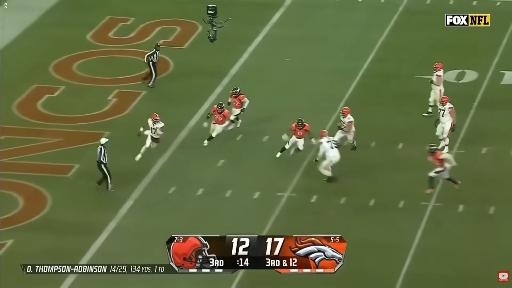Helmet: (439, 95, 449, 106), (231, 87, 241, 97), (428, 144, 439, 153), (296, 118, 305, 129), (216, 102, 225, 113), (341, 107, 350, 117), (434, 63, 442, 71), (152, 114, 159, 123), (320, 130, 327, 137)
Jersey: (318, 137, 339, 158), (429, 152, 456, 167), (211, 106, 230, 124), (148, 118, 164, 138), (439, 103, 454, 122), (291, 123, 309, 138), (229, 94, 246, 109), (339, 115, 354, 132), (430, 152, 445, 167), (432, 70, 443, 89)
Player: (427, 144, 460, 193), (314, 130, 340, 182), (136, 114, 164, 161), (276, 118, 309, 157), (204, 102, 230, 146), (423, 63, 444, 116), (436, 96, 455, 152), (334, 107, 356, 150), (228, 87, 249, 129)
